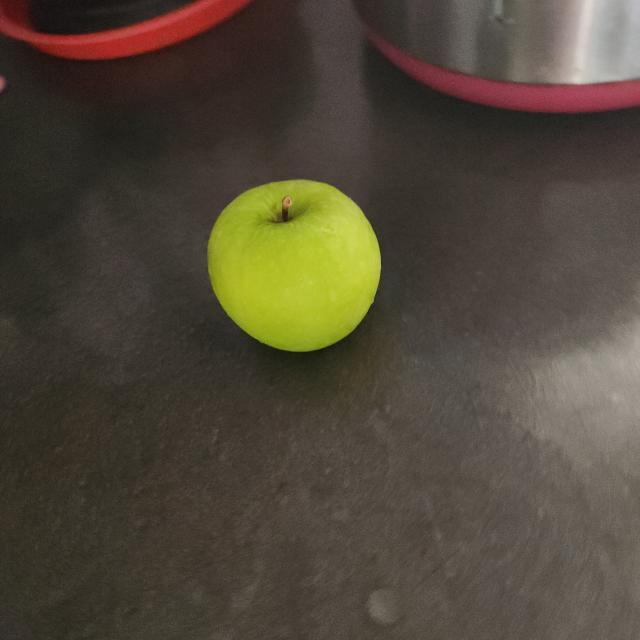apple: (201, 176, 383, 360)
